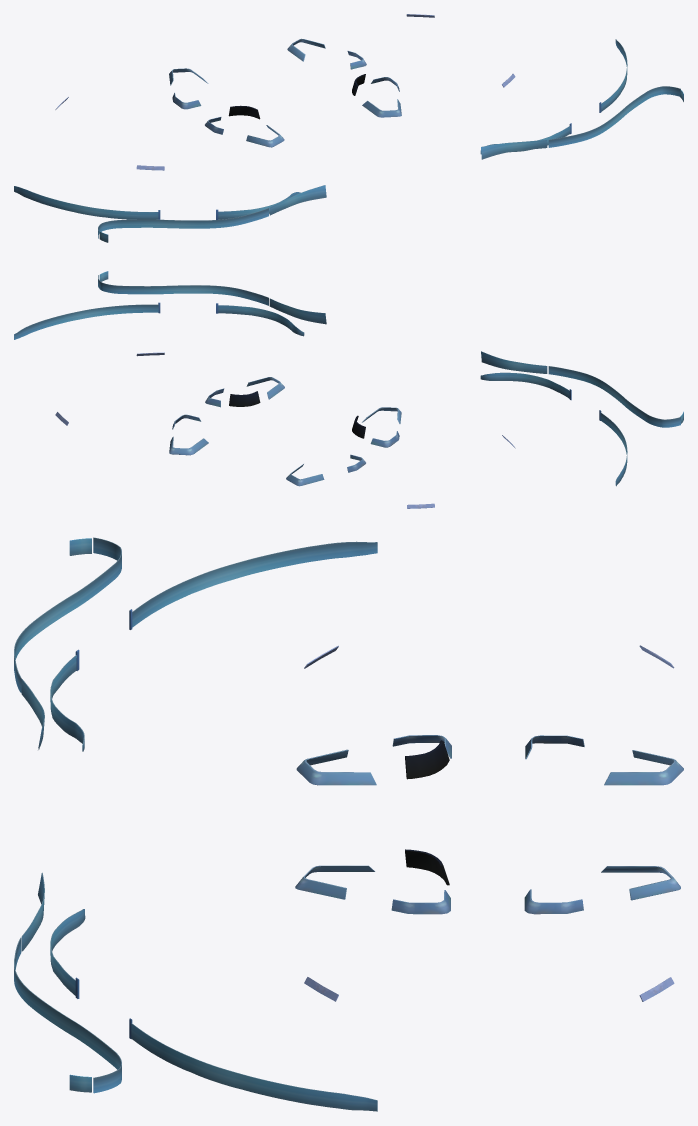
The model's file is pref_sm_beach_bk_pointmol_glass_lv1.fbx.
3 views of the same model, one above another, from view 1: azimuth 30°, elevation 25°; view 2: azimuth 150°, elevation 25°; view 3: azimuth 270°, elevation 25° (orthographic). The views are drawn at different scales.
Parts seen in each view (by area): view 1: sm_beach_bk_pointmol_glass01_lv1, sm_beach_bk_pointmol_glass02_lv1; view 2: sm_beach_bk_pointmol_glass01_lv1, sm_beach_bk_pointmol_glass02_lv1; view 3: sm_beach_bk_pointmol_glass01_lv1, sm_beach_bk_pointmol_glass02_lv1.
Part boxes in pixels (x1,y1,x2,y2): sm_beach_bk_pointmol_glass01_lv1: (14,14,683,242); sm_beach_bk_pointmol_glass02_lv1: (228,74,365,119); sm_beach_bk_pointmol_glass01_lv1: (14,271,683,508); sm_beach_bk_pointmol_glass02_lv1: (229,391,365,438); sm_beach_bk_pointmol_glass01_lv1: (14,537,683,1111); sm_beach_bk_pointmol_glass02_lv1: (405,740,449,885).
Bounding box in the file's own units: 129 × 3.63 × 65.38.
